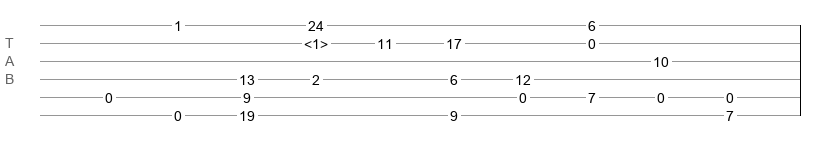0: (105, 90, 113, 100), (174, 108, 182, 118), (519, 90, 527, 100), (588, 36, 596, 46), (657, 90, 665, 100), (726, 90, 734, 100)
1: (174, 18, 182, 28)
10: (653, 54, 669, 64)
11: (377, 36, 393, 46)
12: (515, 72, 531, 82)
13: (239, 72, 255, 82)
17: (446, 36, 462, 46)
19: (239, 108, 255, 118)
2: (312, 72, 320, 82)
24: (308, 18, 324, 28)
6: (450, 72, 458, 82), (588, 18, 596, 28)
7: (588, 90, 596, 100), (726, 108, 734, 118)
9: (243, 90, 251, 100), (450, 108, 458, 118)
harmonic: (304, 36, 328, 46)
